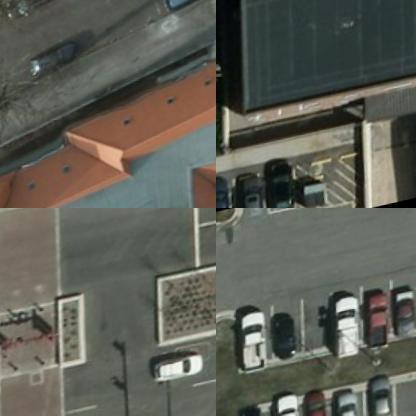car: (235, 306, 274, 373), (326, 288, 363, 358), (358, 290, 394, 359), (150, 351, 209, 391), (269, 306, 300, 362), (27, 40, 79, 72), (270, 160, 303, 207), (0, 0, 52, 29), (360, 378, 399, 415), (239, 174, 273, 207), (331, 386, 369, 415), (298, 389, 337, 415), (267, 391, 305, 415), (159, 0, 215, 15), (216, 173, 238, 207)
